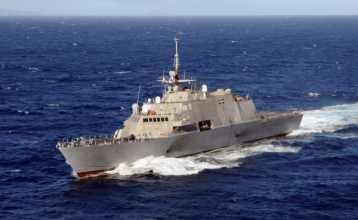warship: (55, 37, 307, 177)
